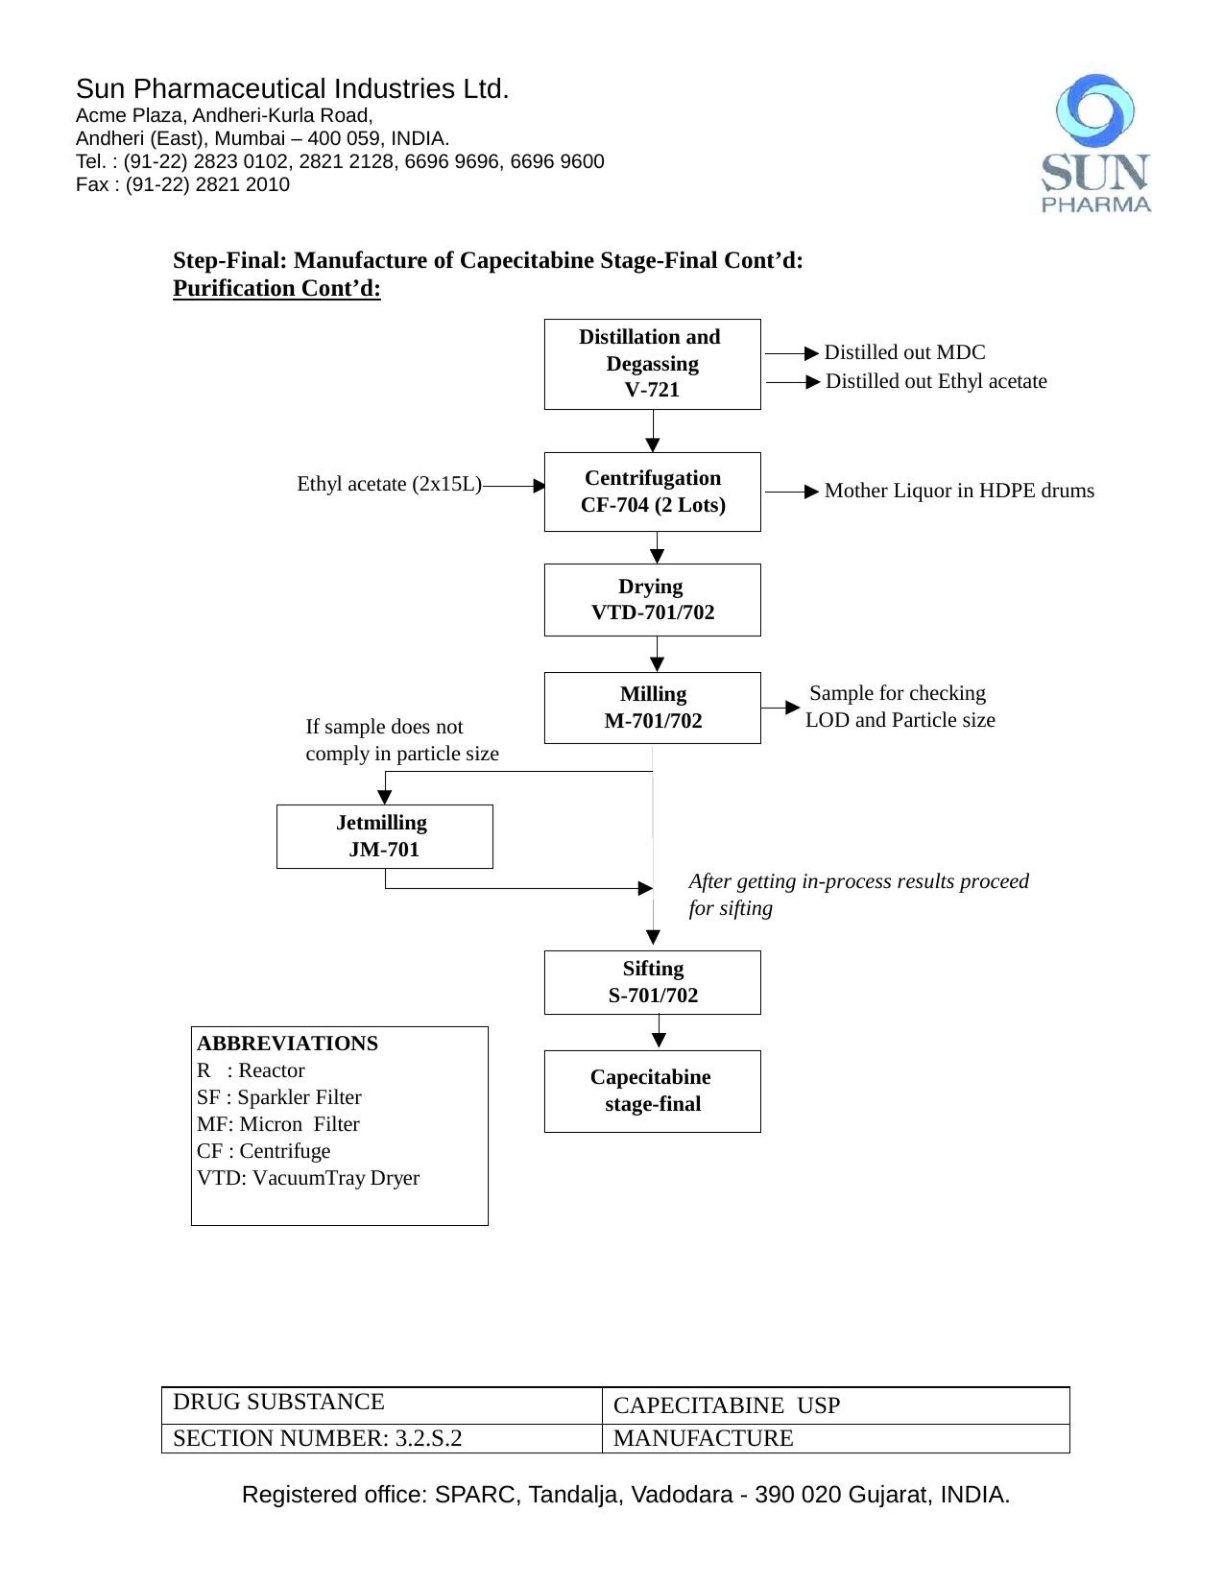full_lined: (159, 1384, 1071, 1454), (159, 1384, 1070, 1453)
